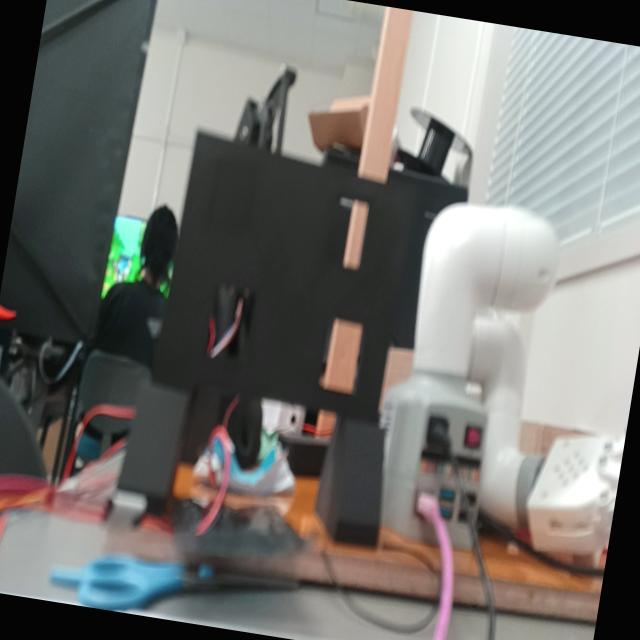Obstacle: (198, 290, 251, 364), (319, 318, 365, 394), (329, 199, 372, 270)
Wall: (153, 130, 413, 422)
